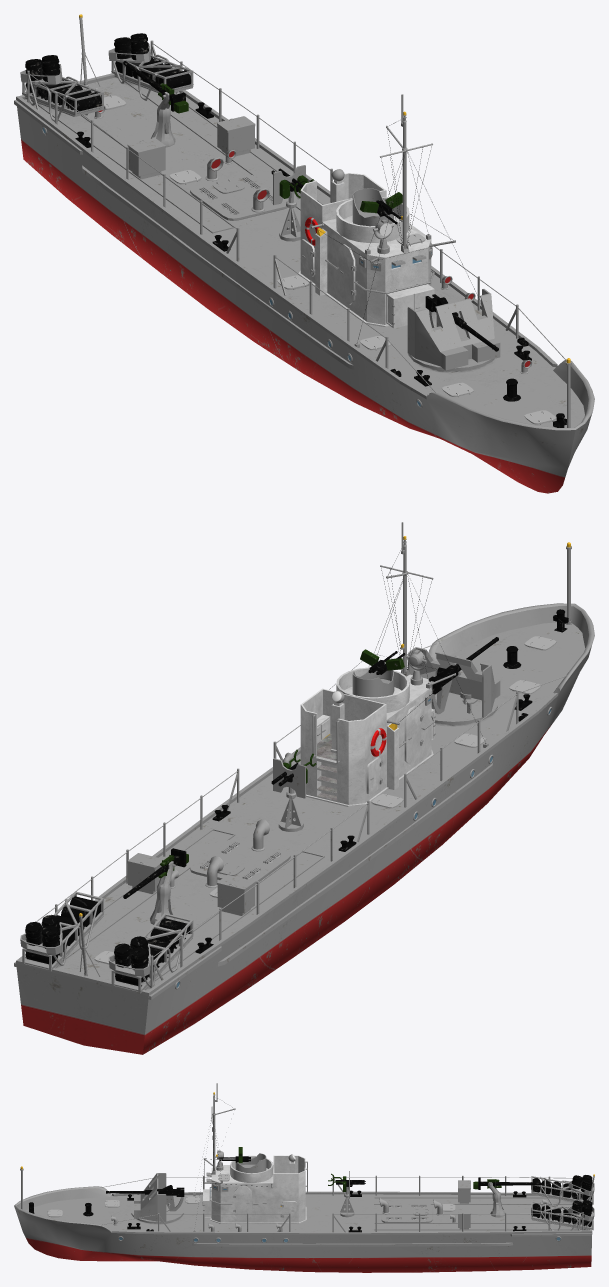
File: mo-class_small_guard_ship.glb
3 views of the same model, one above another, from view 1: azimuth 30°, elevation 25°; view 2: azimuth 150°, elevation 25°; view 3: azimuth 270°, elevation 25° (orthographic). The views are drawn at different scales.
Parts seen in each view (by area): view 1: Ship, details, zad, pushki, Budka, small; view 2: Ship, zad, details, Budka, pushki, small; view 3: Ship, zad, details, Budka, pushki, small.
Part boxes in pixels (left/top/right/bottom): Ship: left=16, top=73, right=594, bottom=493; details: left=14, top=14, right=571, bottom=427; zad: left=20, top=33, right=323, bottom=233; pushki: left=123, top=61, right=500, bottom=370; Budka: left=298, top=173, right=431, bottom=327; small: left=27, top=40, right=566, bottom=392; Ship: left=16, top=603, right=594, bottom=1054; zad: left=20, top=829, right=324, bottom=993; details: left=14, top=542, right=572, bottom=999; Budka: left=300, top=672, right=433, bottom=806; pushki: left=123, top=637, right=500, bottom=926; small: left=36, top=522, right=567, bottom=987; Ship: left=14, top=1186, right=592, bottom=1272; zad: left=374, top=1175, right=594, bottom=1230; details: left=20, top=1150, right=594, bottom=1246; Budka: left=210, top=1155, right=306, bottom=1223; pushki: left=106, top=1147, right=542, bottom=1221; small: left=100, top=1083, right=583, bottom=1232.
Size of the model in its own units: 0.3417 by 0.6764 by 2.
6 materials, 6 textured.
